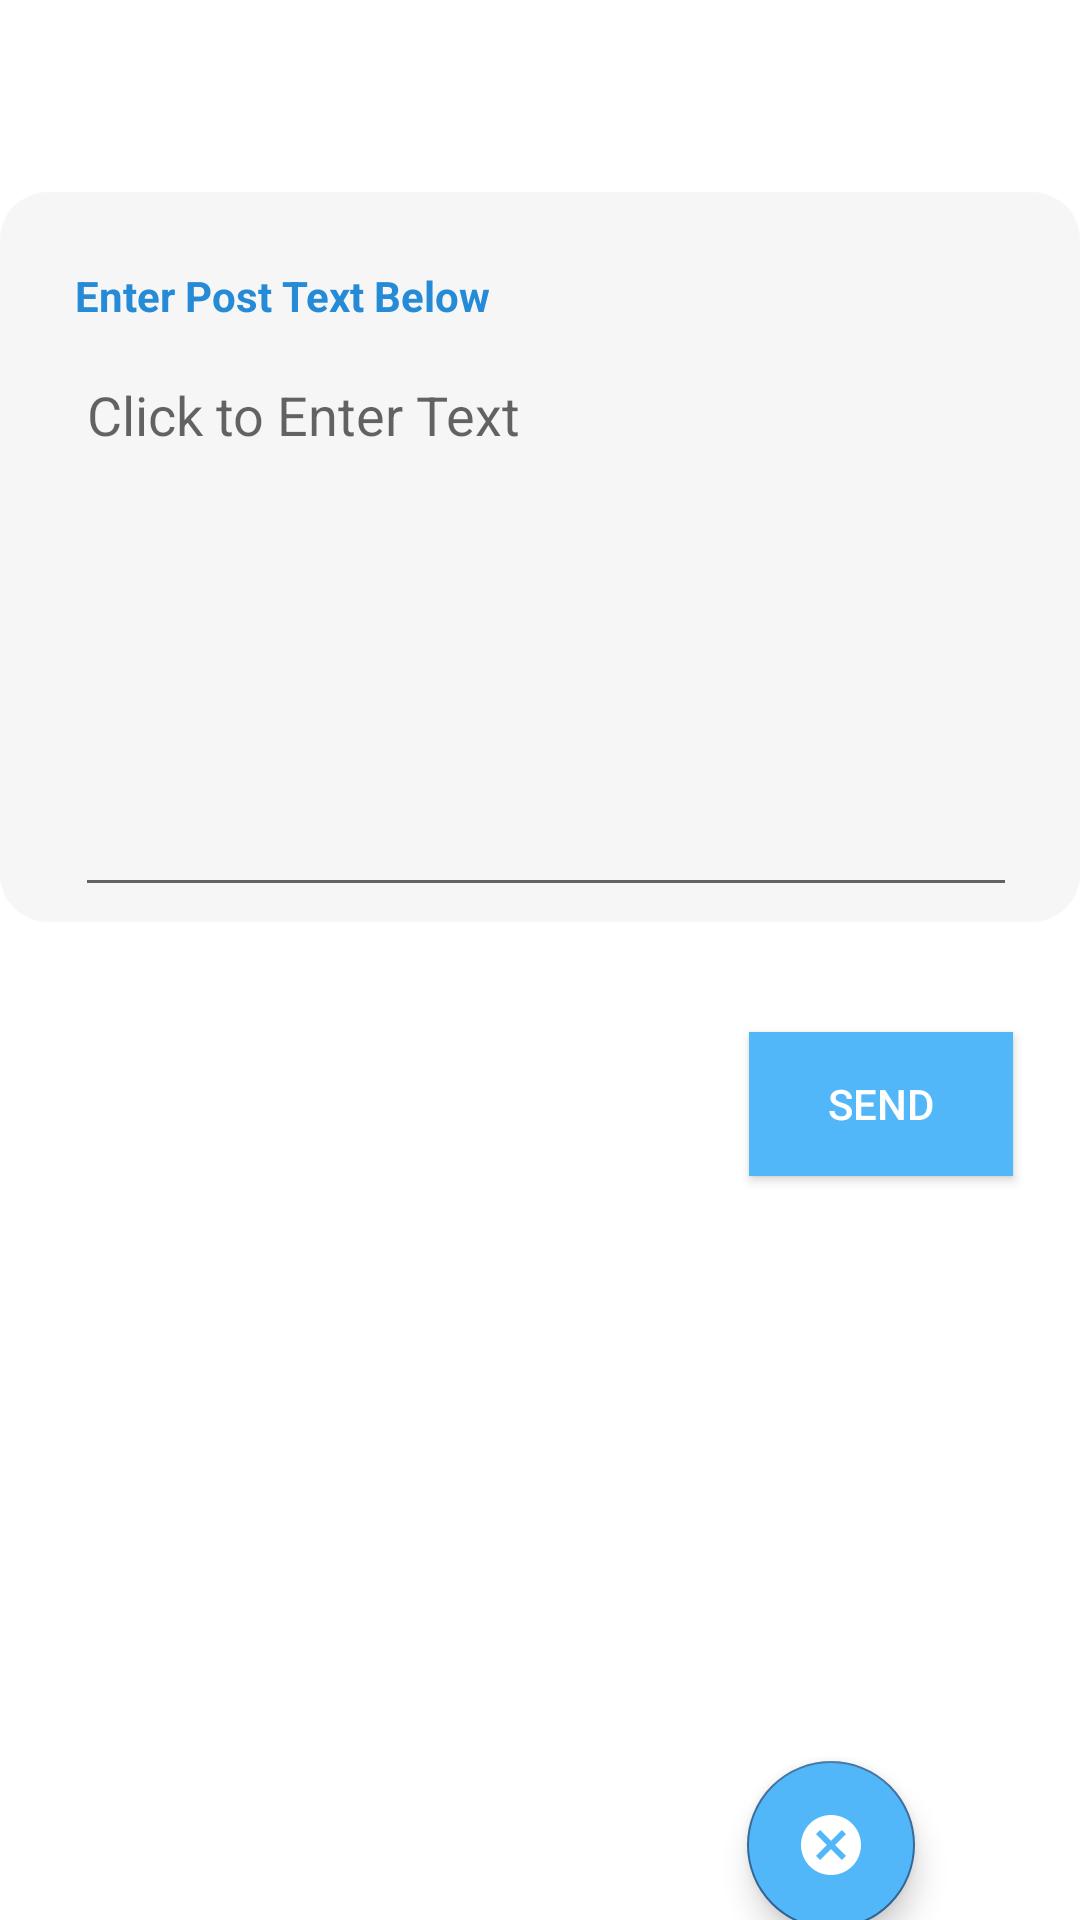

Where icons sit on this 1080 x 1920 app screen, as (x1, y1, x2, y2):
cancel: (747, 1761, 915, 1920)
